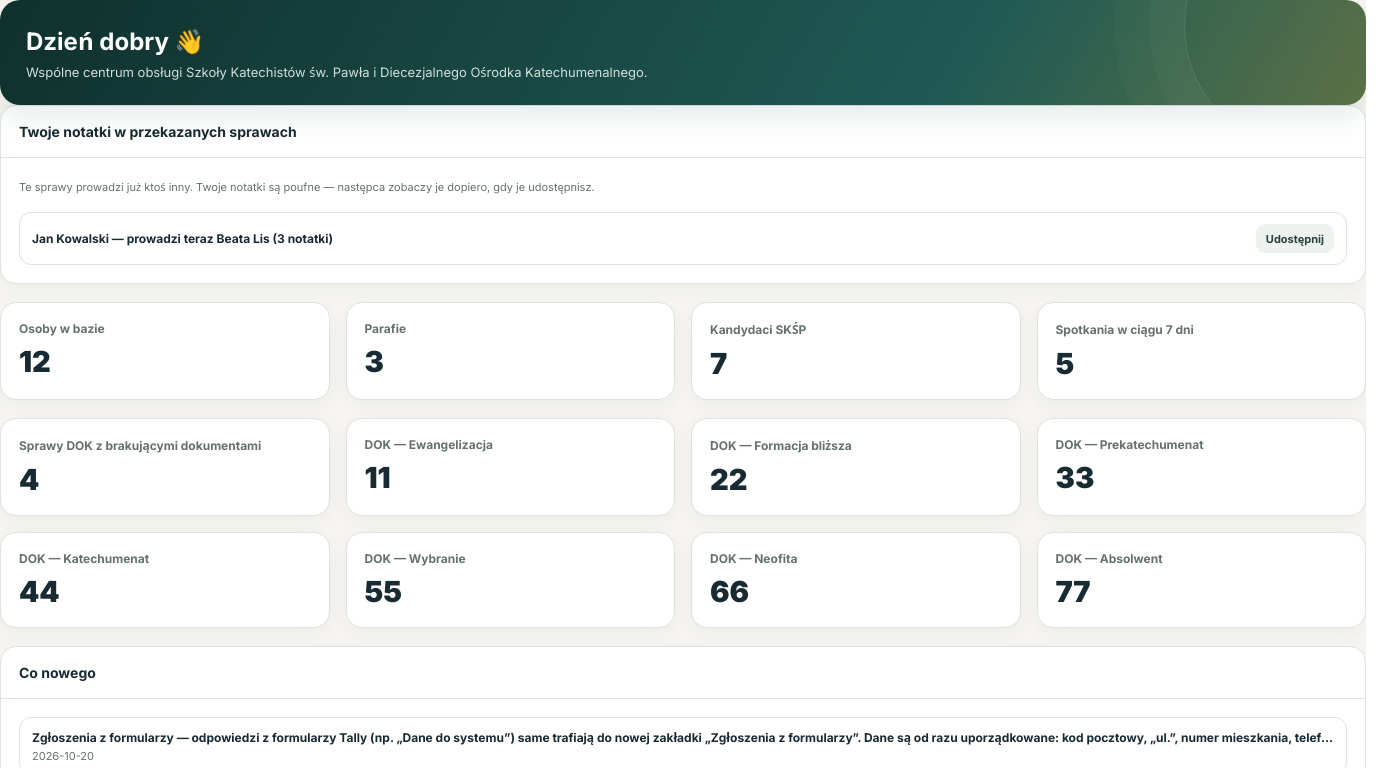
DashboardComponent › my notes in handed-over cases › lists cases someone else now leads and shares my notes there
Click the button "Udostępnij".
click(1295, 238)  # box [1256,224,1334,253]
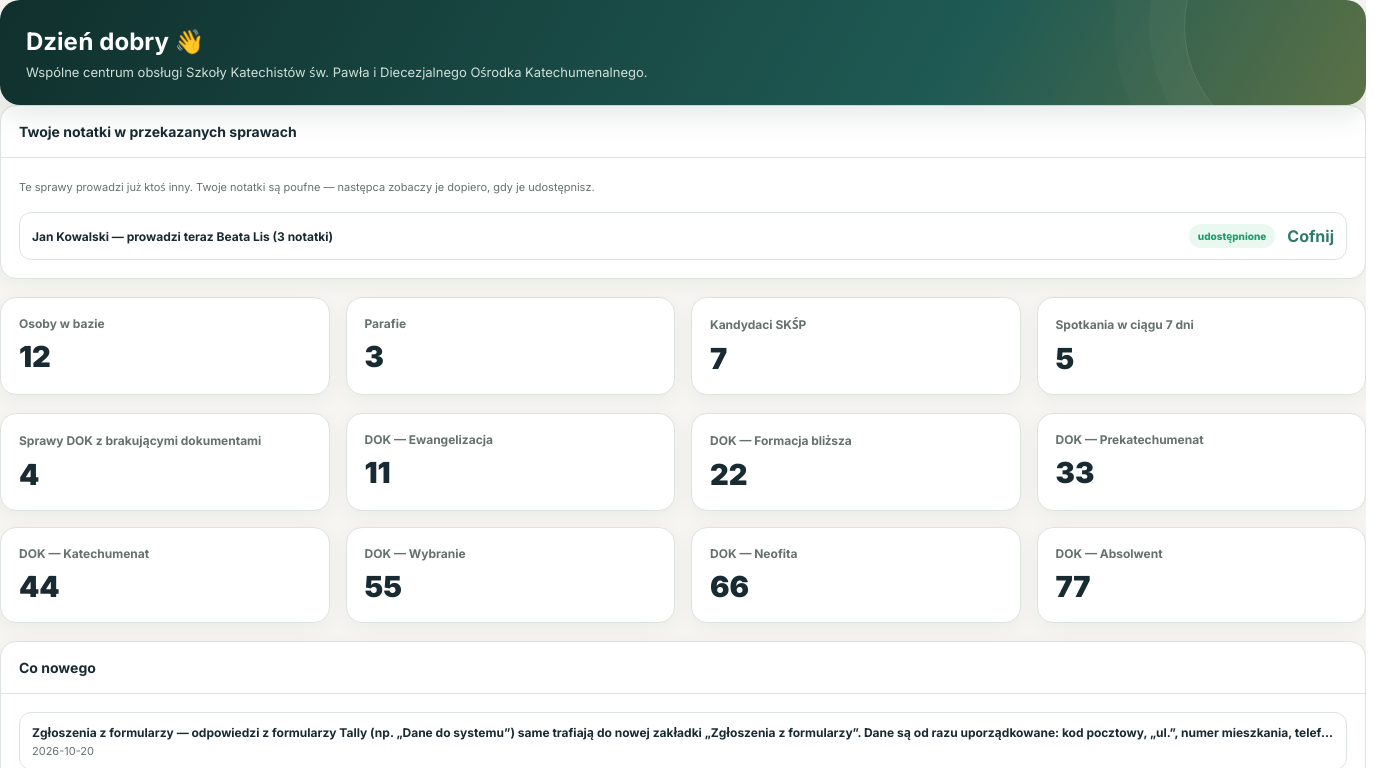
Result: the element with class "handed-over" shows "udostępnione" at [1198,230,1266,242]
